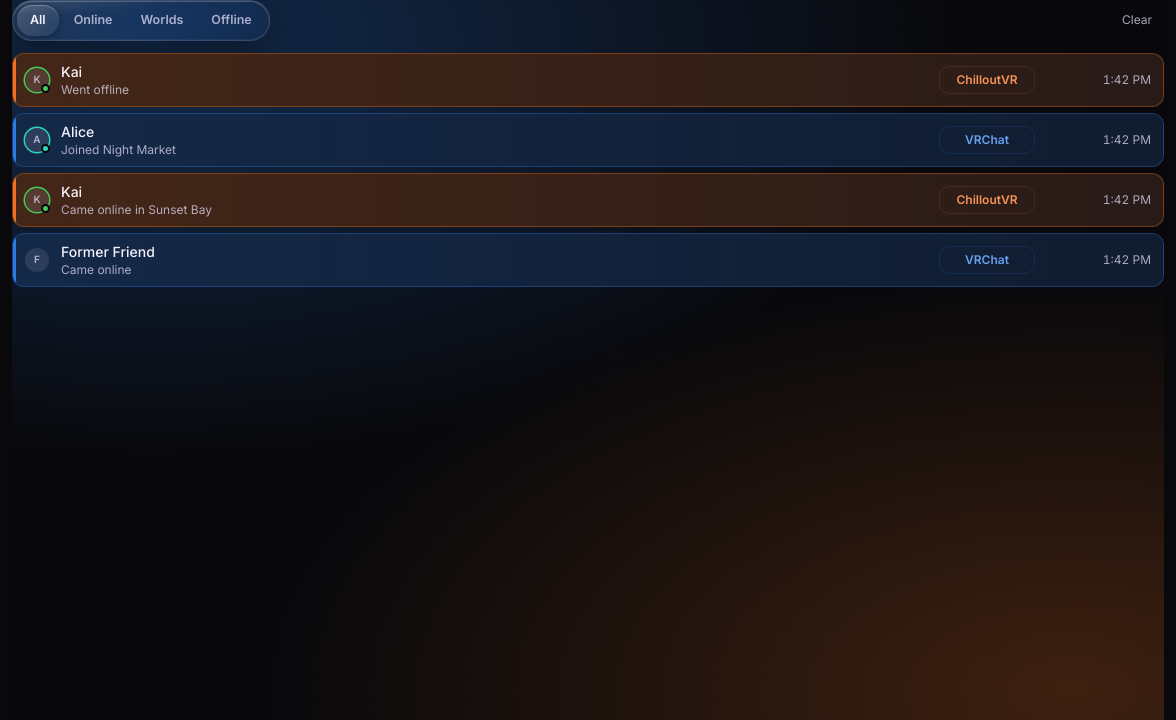
Test case: ActivityView › clears through main and empties the list at once
Click the button with aria-label "Clear all activity".
click(1137, 20)  # box [1110,8,1164,32]
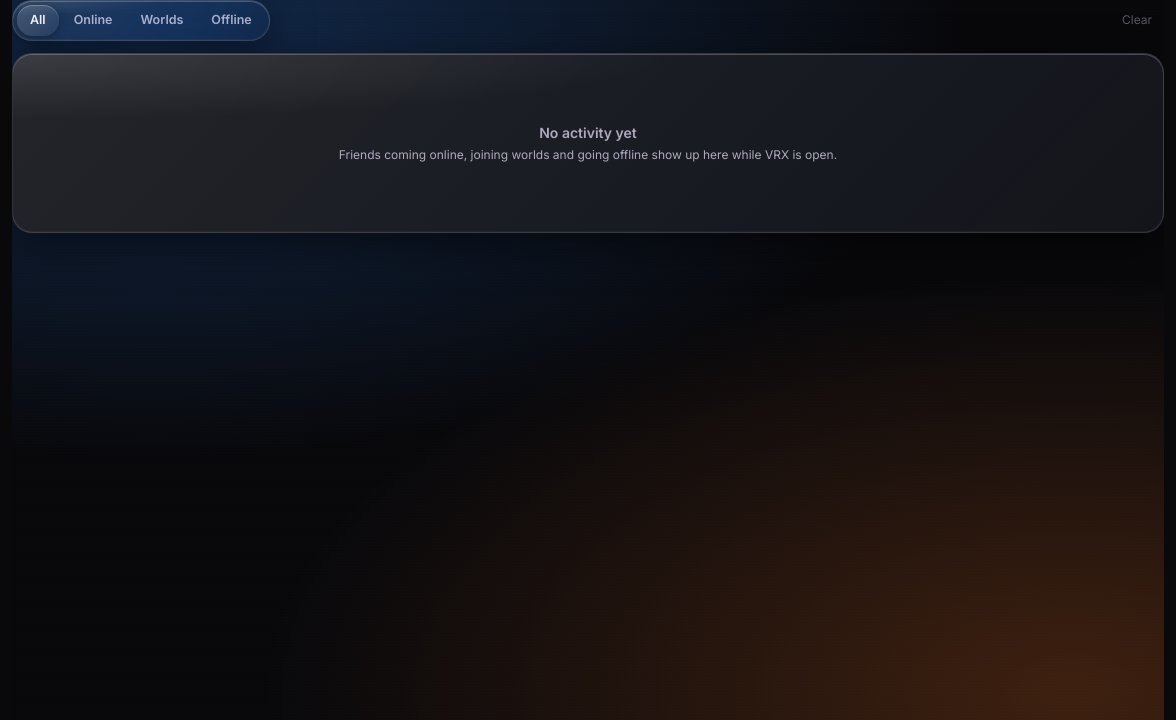
Result: the text "No activity yet" is shown at [539,123,637,143]
